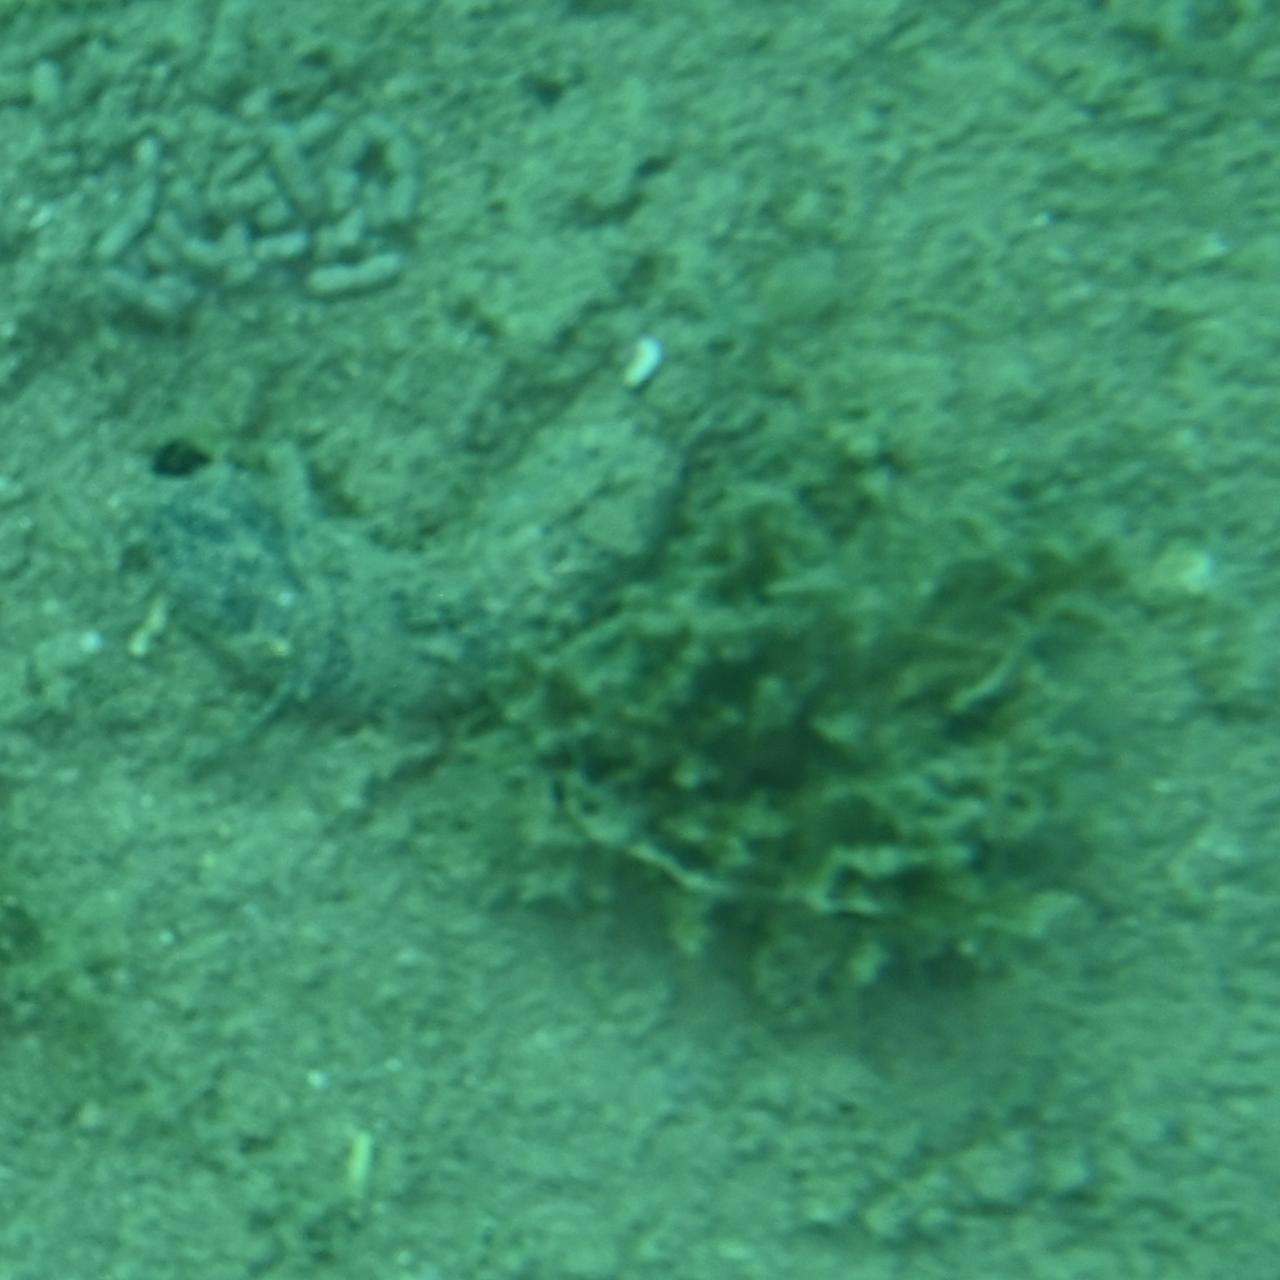Holothuria tubulosa: (130, 316, 772, 749)
Phaeophyceae -cfr Cystoseira-: (496, 404, 1162, 1089)
